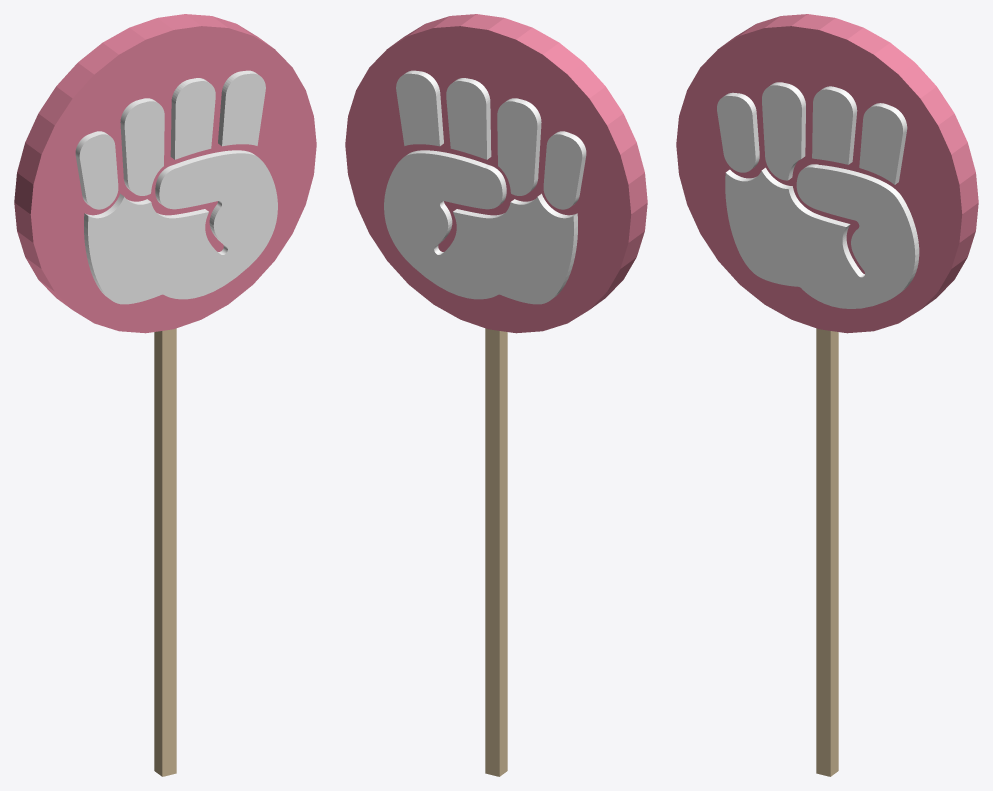
The model's file is rock.fbx.
3 renders of one model, left to right at view 1: azimuth 30°, elevation 25°; view 2: azimuth 150°, elevation 25°; view 3: azimuth 330°, elevation 25°, orthographic.
Visible parts, largest first — view 1: 円柱, path34, 立方体, path22, path26, path30, path38; view 2: 円柱, path34, 立方体, path22, path26, path30, path38; view 3: 円柱, path34, 立方体, path22, path26, path30, path38.
Boxes of the visible parts, bbox=[...] form: 円柱: bbox=[14, 14, 316, 333]; path34: bbox=[84, 150, 277, 304]; 立方体: bbox=[154, 328, 176, 776]; path22: bbox=[120, 98, 164, 195]; path26: bbox=[170, 78, 215, 159]; path30: bbox=[218, 70, 265, 146]; path38: bbox=[75, 131, 118, 209]; 円柱: bbox=[345, 14, 647, 333]; path34: bbox=[384, 150, 577, 304]; 立方体: bbox=[485, 328, 507, 776]; path22: bbox=[497, 98, 541, 195]; path26: bbox=[446, 78, 491, 159]; path30: bbox=[396, 70, 443, 146]; path38: bbox=[543, 131, 586, 209]; 円柱: bbox=[676, 14, 978, 333]; path34: bbox=[725, 164, 919, 308]; 立方体: bbox=[816, 328, 838, 776]; path22: bbox=[762, 82, 805, 180]; path26: bbox=[812, 86, 857, 164]; path30: bbox=[859, 103, 907, 184]; path38: bbox=[717, 92, 759, 172].
Size of the model in its own units: 20 by 50 by 3.
